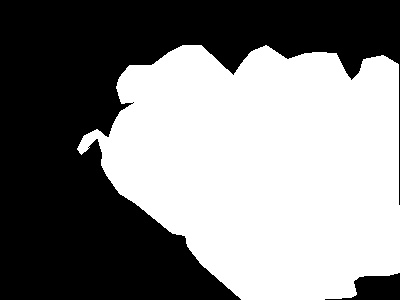Fire: (77, 37, 400, 298)
